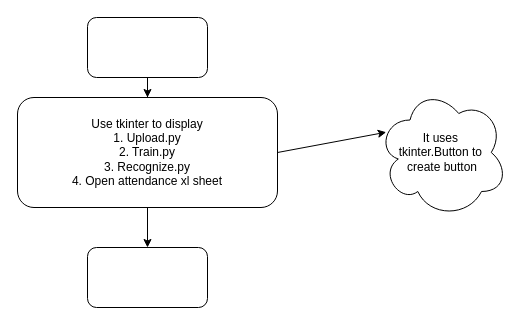
Image size: 525x325. Some labels were removed from this diagram. Each missing label, with the centre of its shape:
"END" belongs at (147,277).
"START(startGUI)" belongs at (147,47).
